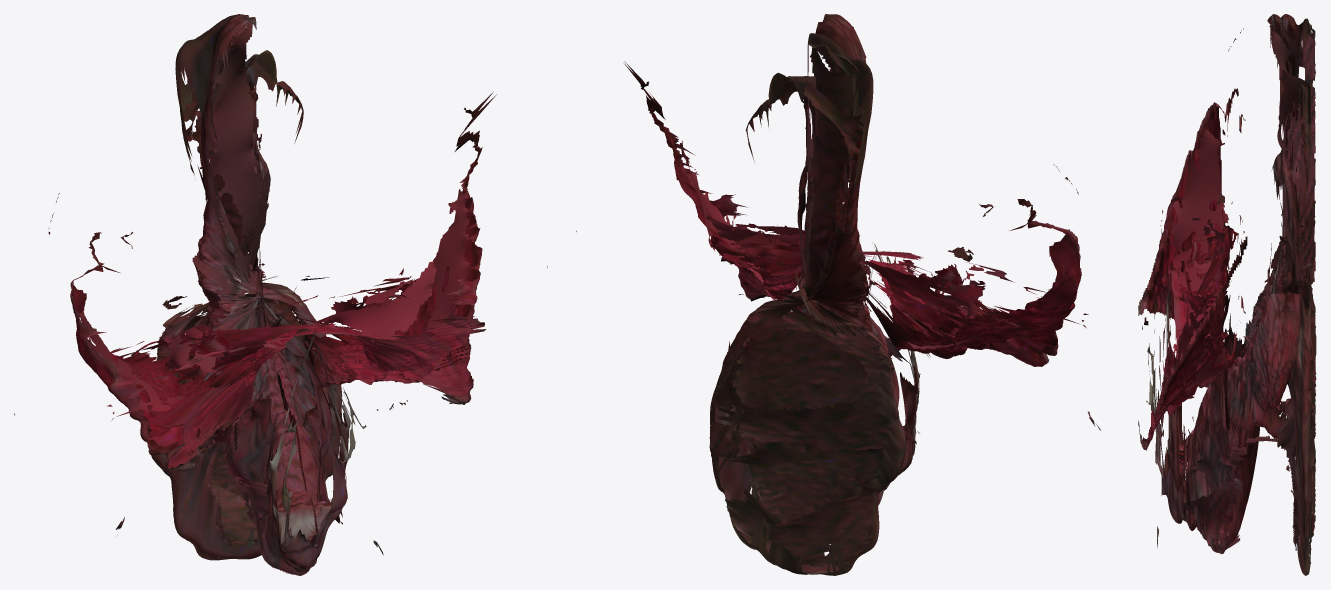
The model's file is mesh_inpaint.glb.
The picture shows the model from 3 angles, left to right: view 1: azimuth 30°, elevation 25°; view 2: azimuth 150°, elevation 25°; view 3: azimuth 270°, elevation 25°; orthographic projection. The views are drawn at different scales.
Visible parts, largest first — view 1: ipn, fill; view 2: fill, ipn; view 3: ipn, fill.
Part boxes in pixels (x1,y1,x2,y2): ipn: (14, 14, 547, 575); fill: (73, 19, 472, 573); fill: (674, 27, 1070, 566); ipn: (576, 14, 1100, 575); ipn: (1138, 14, 1310, 575); fill: (1151, 16, 1316, 564).
Size of the model in its own units: 1.99 by 1.98 by 0.5904.
Materials: 2 (1 with a texture image).
